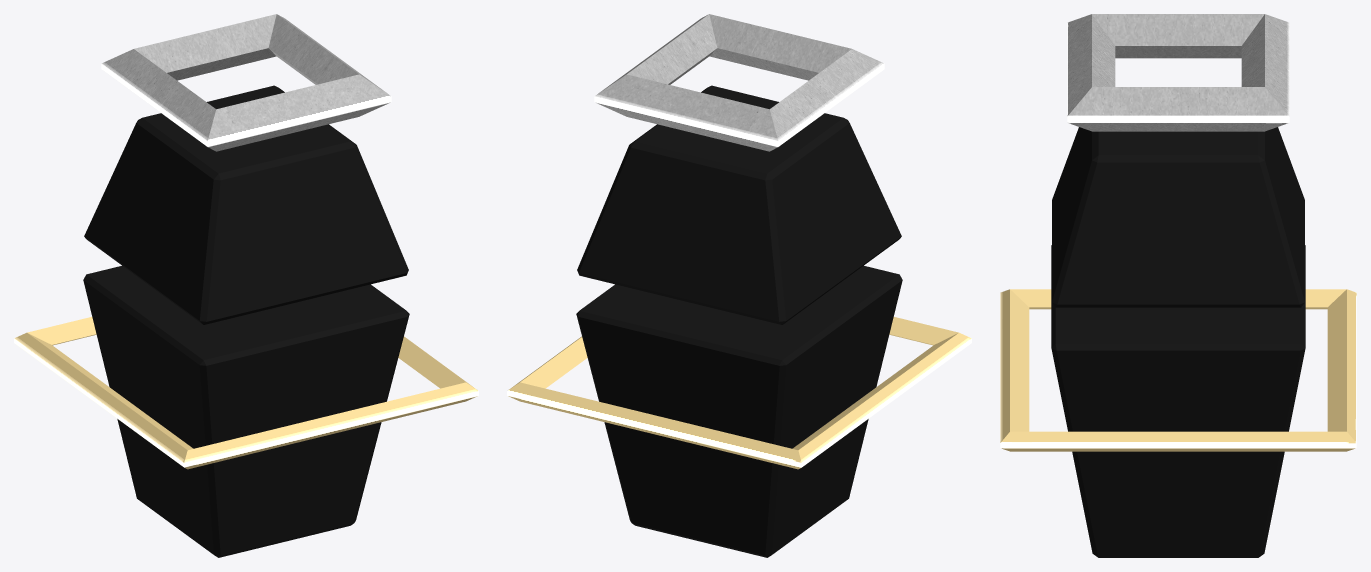
Rendered from Tower.fbx.
3 renders of one model, left to right at view 1: azimuth 30°, elevation 25°; view 2: azimuth 150°, elevation 25°; view 3: azimuth 270°, elevation 25°, orthographic. The views are drawn at different scales.
Visible parts, largest first — view 1: Tower; view 2: Tower; view 3: Tower.
Part boxes in pixels (x1=…): Tower: x1=14, y1=14, x2=478, y2=557; Tower: x1=507, y1=14, x2=971, y2=557; Tower: x1=1000, y1=14, x2=1356, y2=557.
Bounding box in the file's own units: 69.68 × 102 × 69.68.
